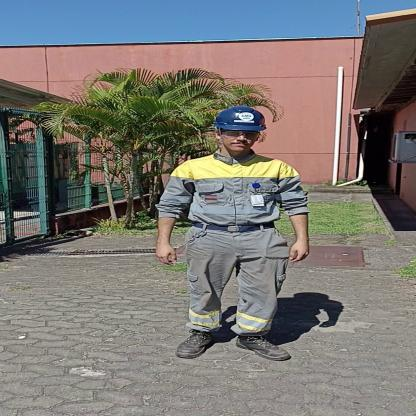Capacete: (216, 105, 267, 130)
